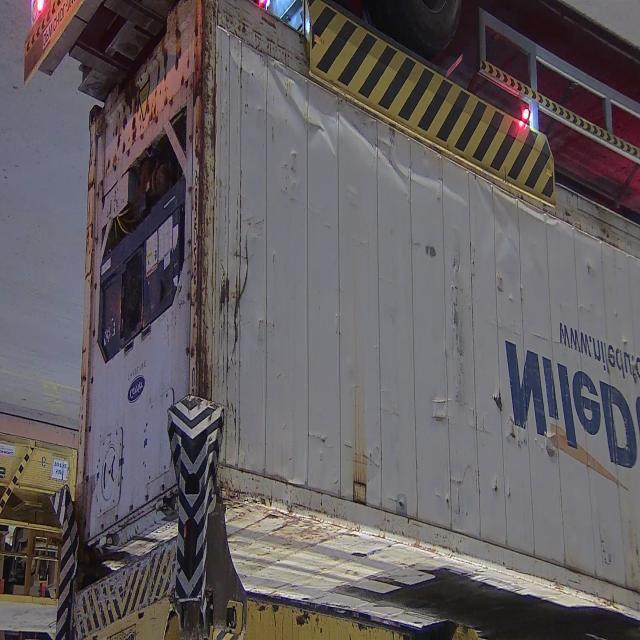Hole: (488, 383, 521, 448), (486, 475, 514, 510), (394, 484, 414, 522)
Minor Dent: (227, 232, 251, 374), (424, 383, 456, 431), (542, 419, 560, 468)
Rust: (178, 15, 222, 422)
